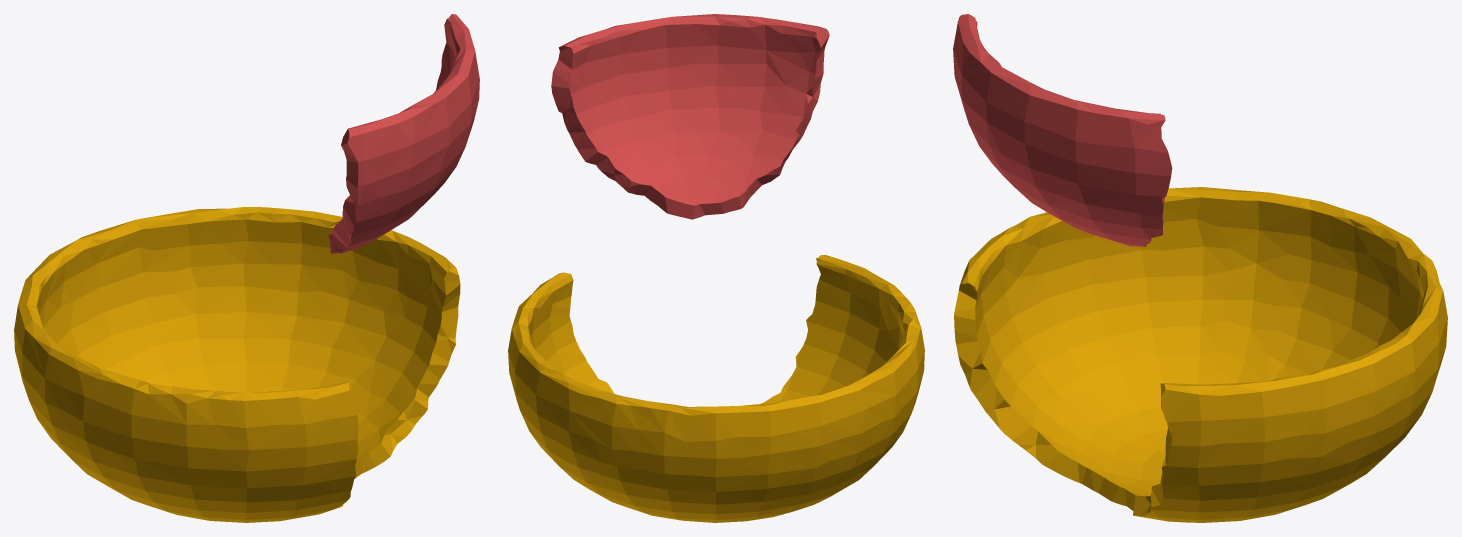
File: fractured_33_2pcs_transformed.glb
The picture shows the model from 3 angles, left to right: view 1: azimuth 30°, elevation 25°; view 2: azimuth 150°, elevation 25°; view 3: azimuth 270°, elevation 25°; orthographic projection. The views are drawn at different scales.
Parts seen in each view (by area): view 1: piece_0.obj, piece_1.obj; view 2: piece_0.obj, piece_1.obj; view 3: piece_0.obj, piece_1.obj.
Part boxes in pixels (x1,y1,x2,y2): piece_0.obj: (14,207,460,522); piece_1.obj: (328,14,479,253); piece_0.obj: (508,255,924,522); piece_1.obj: (551,14,829,219); piece_0.obj: (954,187,1447,522); piece_1.obj: (953,14,1172,246).
Bounding box in the file's own units: 0.9998 × 1.04 × 1.
